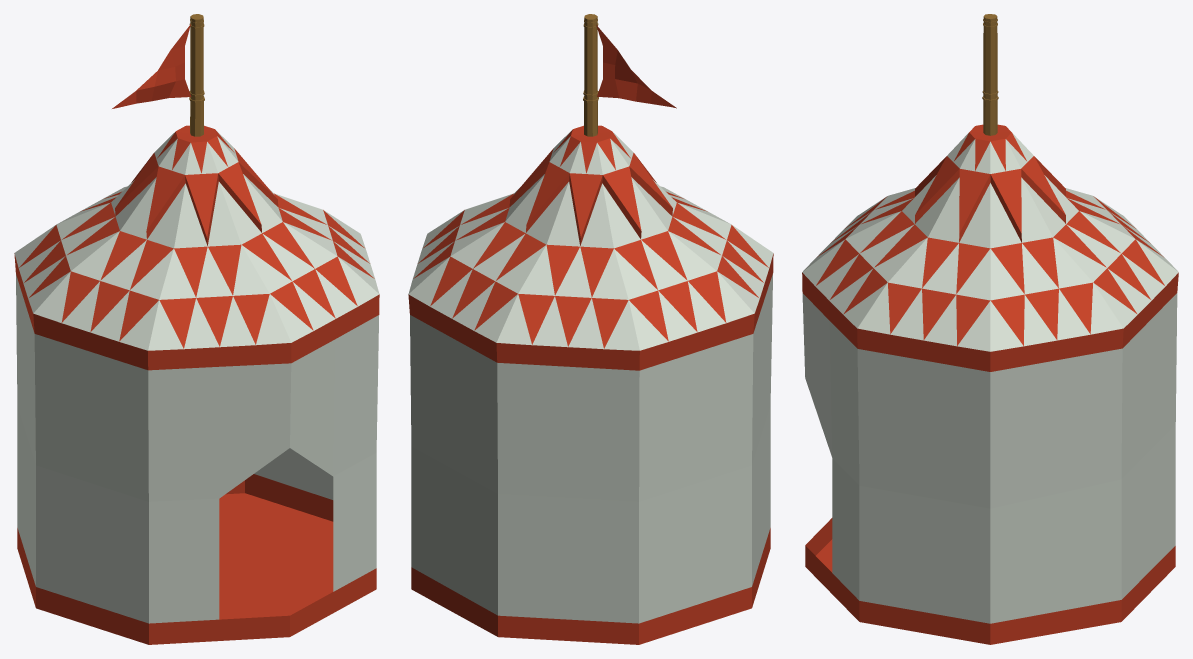
The model's file is Tent_L_Red.fbx.
The picture shows the model from 3 angles, left to right: view 1: azimuth 30°, elevation 25°; view 2: azimuth 150°, elevation 25°; view 3: azimuth 270°, elevation 25°; orthographic projection.
Visible parts, largest first — view 1: Tent_L_Red; view 2: Tent_L_Red; view 3: Tent_L_Red.
Boxes of the visible parts, x1=… form: Tent_L_Red: x1=14, y1=14, x2=379, y2=644; Tent_L_Red: x1=408, y1=14, x2=773, y2=644; Tent_L_Red: x1=802, y1=14, x2=1178, y2=644.
Size of the model in its own units: 203 by 328 by 203.
